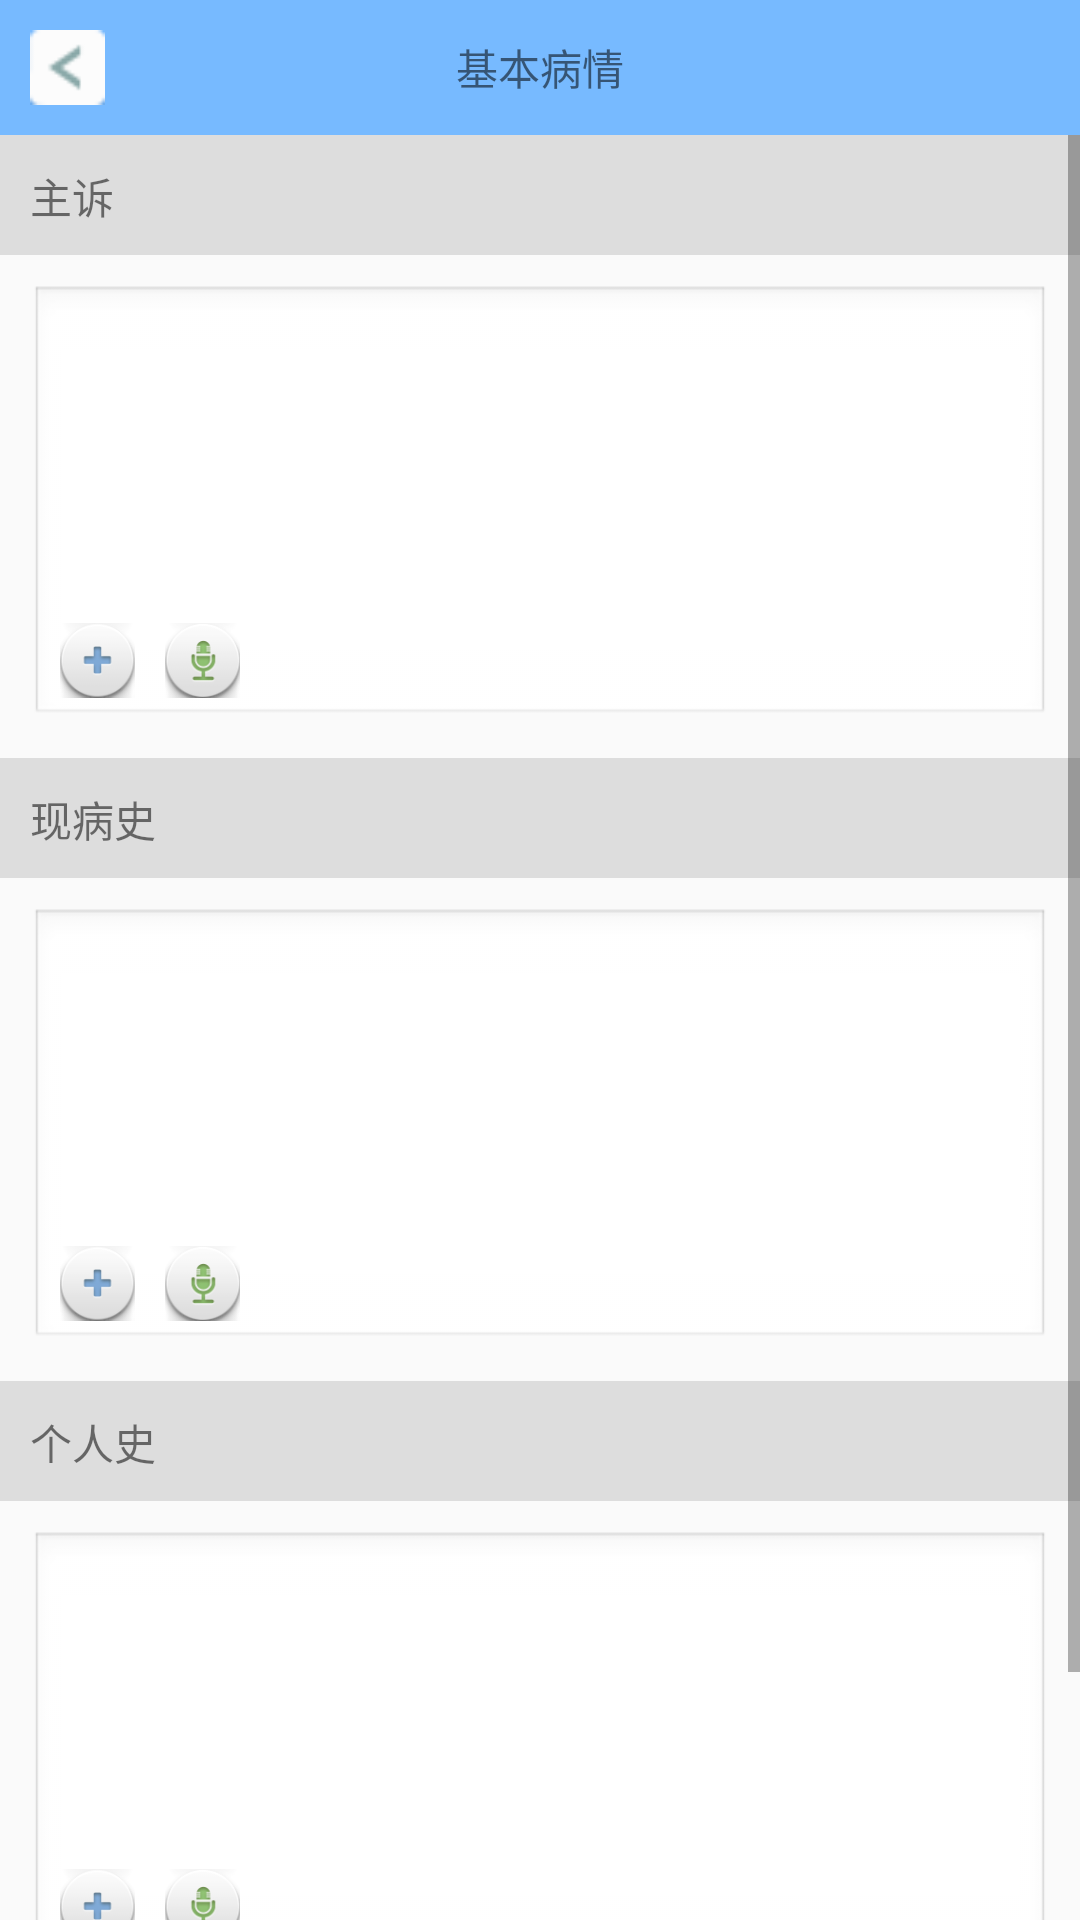

Named icons in this screenshot (1080×1920) and their centers, (x=x, y=y):
left: (x=67, y=67)
